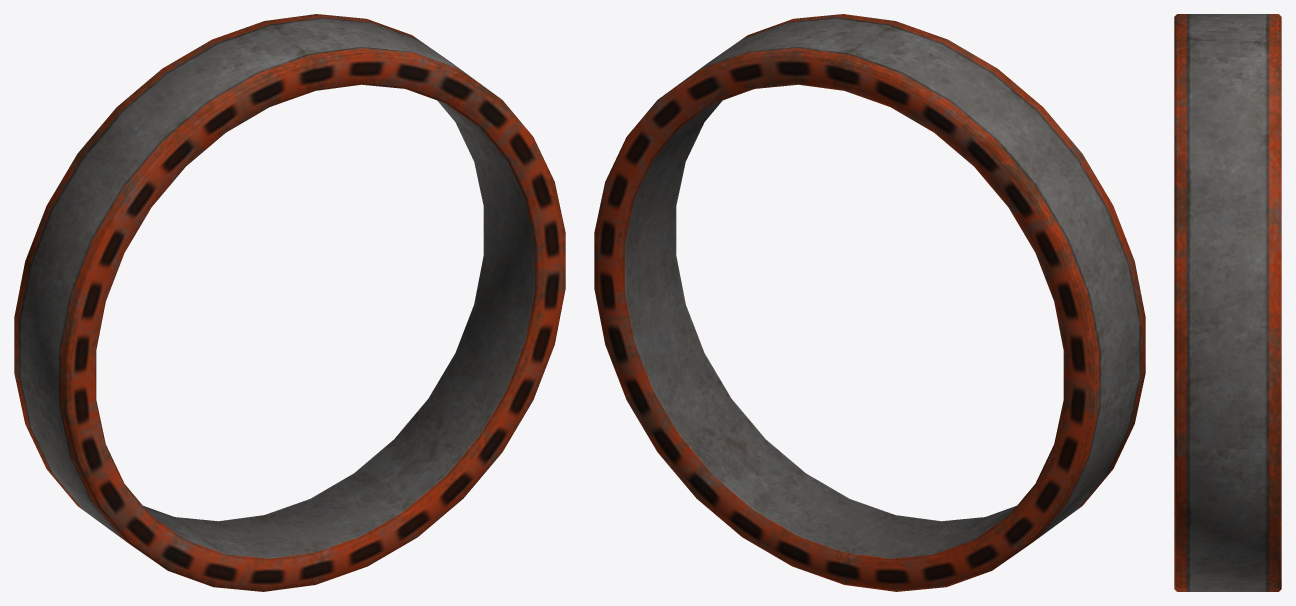
File: 04_02_reactor_outer_ring.dae
3 views of the same model, side by side, from view 1: azimuth 30°, elevation 25°; view 2: azimuth 150°, elevation 25°; view 3: azimuth 270°, elevation 25° (orthographic).
Parts seen in each view (by area): view 1: ring_outer; view 2: ring_outer; view 3: ring_outer.
Part boxes in pixels (x1=…): ring_outer: x1=14, y1=14, x2=565, y2=591; ring_outer: x1=594, y1=14, x2=1145, y2=591; ring_outer: x1=1174, y1=14, x2=1281, y2=591.
Size of the model in its own units: 4.15 by 4.17 by 0.7747.
